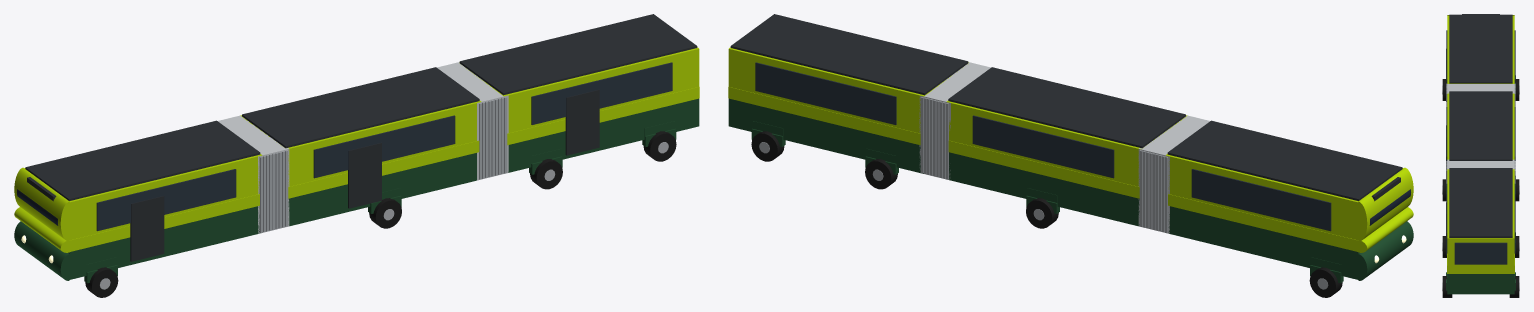
Rendered from biarticulado-verde.glb.
The picture shows the model from 3 angles, left to right: view 1: azimuth 30°, elevation 25°; view 2: azimuth 150°, elevation 25°; view 3: azimuth 270°, elevation 25°; orthographic projection. The views are drawn at different scales.
Size of the model in its own units: 20.38 by 3.11 by 2.93.
